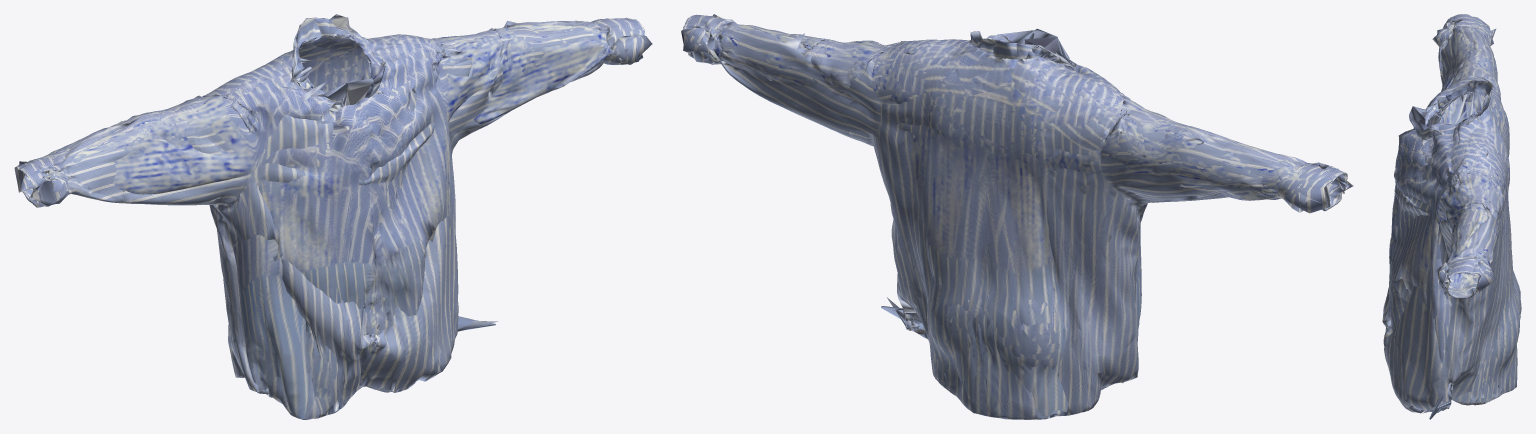
File: 3701015c-2540-4e65-9e38-bab52e1d0b23.glb
3 renders of one model, left to right at view 1: azimuth 30°, elevation 25°; view 2: azimuth 150°, elevation 25°; view 3: azimuth 270°, elevation 25°, orthographic. The views are drawn at different scales.
Visible parts, largest first — view 1: Mesh_0.001; view 2: Mesh_0.001; view 3: Mesh_0.001.
Part boxes in pixels (x1,y1,x2,y2): Mesh_0.001: [14, 14, 652, 419]; Mesh_0.001: [681, 14, 1353, 419]; Mesh_0.001: [1382, 14, 1521, 419].
Size of the model in its own units: 1.74 by 0.9431 by 0.3919.
Materials: 1 (1 with a texture image).
